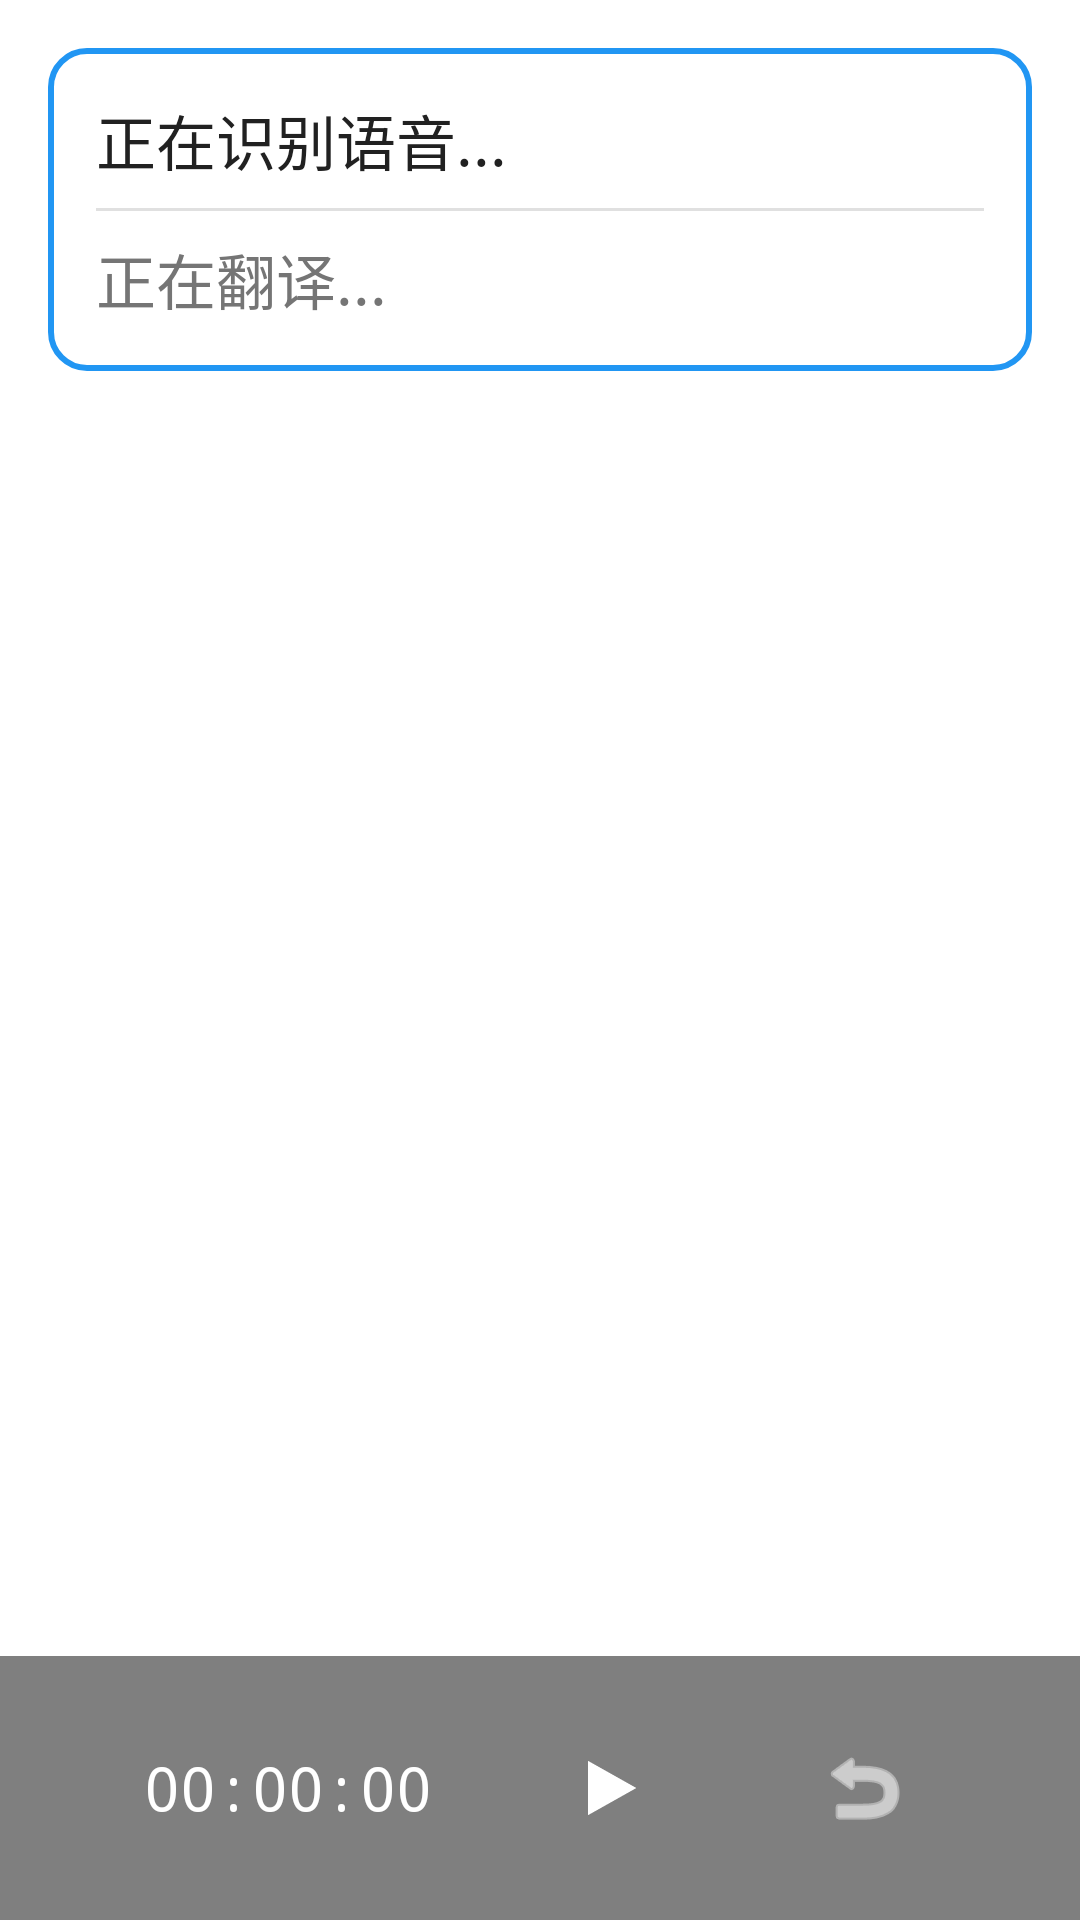

Icon click points for this 1080*1920 phone screenshot, format (x=x, y=y):
开始/暂停: (x=612, y=1788)
返回主界面: (x=865, y=1789)
